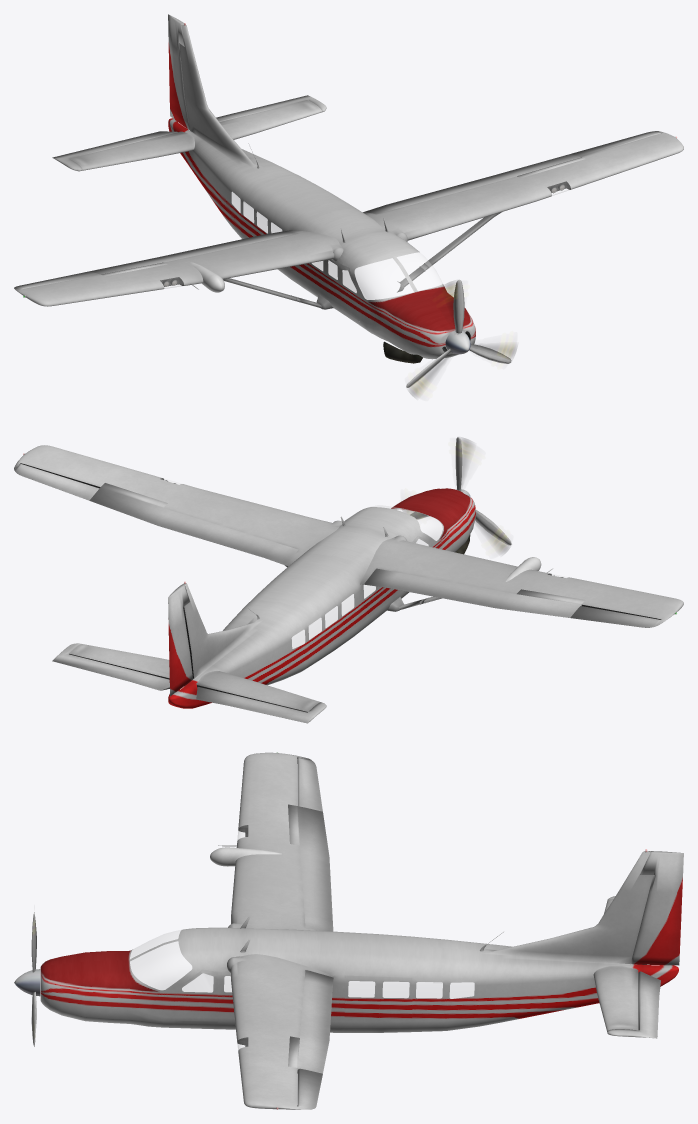
3 views of the same model, one above another, from view 1: azimuth 30°, elevation 25°; view 2: azimuth 150°, elevation 25°; view 3: azimuth 270°, elevation 25° (orthographic). The views are drawn at different scales.
Parts seen in each view (by area): view 1: fuselage, ailes, ailes2, vitres, direction, voletG, profondeur, barres, voletD, helice, propblur, porteAD; view 2: fuselage, ailes, voletG, voletD, ailes2, profondeur, direction, vitres, aileronG, aileronD, helice, trous; view 3: fuselage, ailes, direction, voletD, vitres, voletG, ailes2, porteB, profondeur, porteAG, aileronD, porteH (+3 smaller).
Part boxes in pixels (left/top/right/bottom): fuselage: left=168, top=24, right=475, bottom=359; ailes: left=14, top=131, right=683, bottom=306; ailes2: left=69, top=100, right=321, bottom=170; vitres: left=160, top=181, right=570, bottom=299; direction: left=168, top=14, right=189, bottom=129; voletG: left=364, top=154, right=580, bottom=214; profondeur: left=52, top=95, right=326, bottom=171; barres: left=223, top=212, right=501, bottom=309; voletD: left=90, top=231, right=297, bottom=274; helice: left=406, top=279, right=511, bottom=387; propblur: left=409, top=281, right=516, bottom=396; porteAD: left=340, top=265, right=359, bottom=321; fuselage: left=168, top=488, right=475, bottom=708; ailes: left=14, top=445, right=683, bottom=626; voletG: left=89, top=487, right=298, bottom=565; voletD: left=364, top=568, right=581, bottom=617; ailes2: left=69, top=644, right=320, bottom=711; profondeur: left=52, top=643, right=326, bottom=723; direction: left=168, top=585, right=192, bottom=696; vitres: left=161, top=478, right=567, bottom=648; aileronG: left=14, top=464, right=99, bottom=500; aileronD: left=570, top=606, right=660, bottom=627; helice: left=410, top=437, right=511, bottom=545; trous: left=20, top=463, right=661, bottom=712; fuselage: left=40, top=851, right=678, bottom=1032; ailes: left=227, top=752, right=333, bottom=1109; direction: left=631, top=851, right=683, bottom=965; voletD: left=297, top=806, right=333, bottom=931; vitres: left=130, top=825, right=474, bottom=1049; voletG: left=297, top=970, right=333, bottom=1073; ailes2: left=593, top=899, right=638, bottom=1031; porteB: left=344, top=1002, right=412, bottom=1028; profondeur: left=607, top=896, right=660, bottom=1038; porteAG: left=177, top=969, right=217, bottom=1021; aileronD: left=297, top=757, right=322, bottom=811; porteH: left=344, top=975, right=412, bottom=1002.
Bounding box in the file's own units: 15.85 × 4.09 × 12.6.
5 materials, 2 textured.
